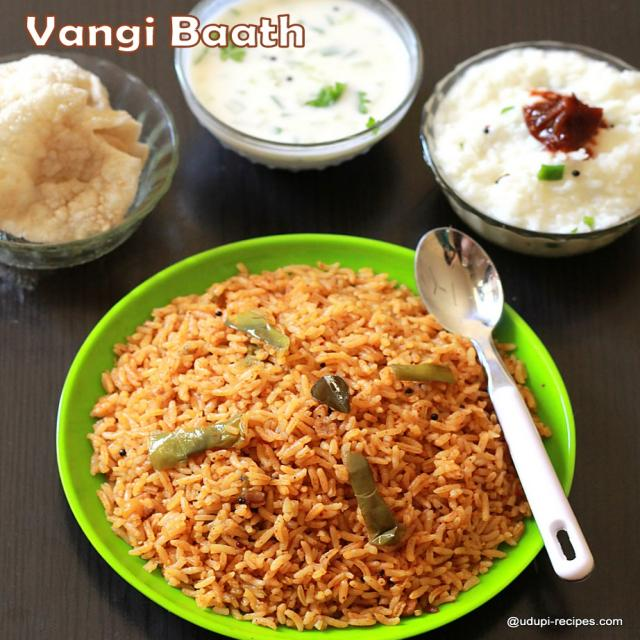vangi bath: (74, 248, 540, 638)
